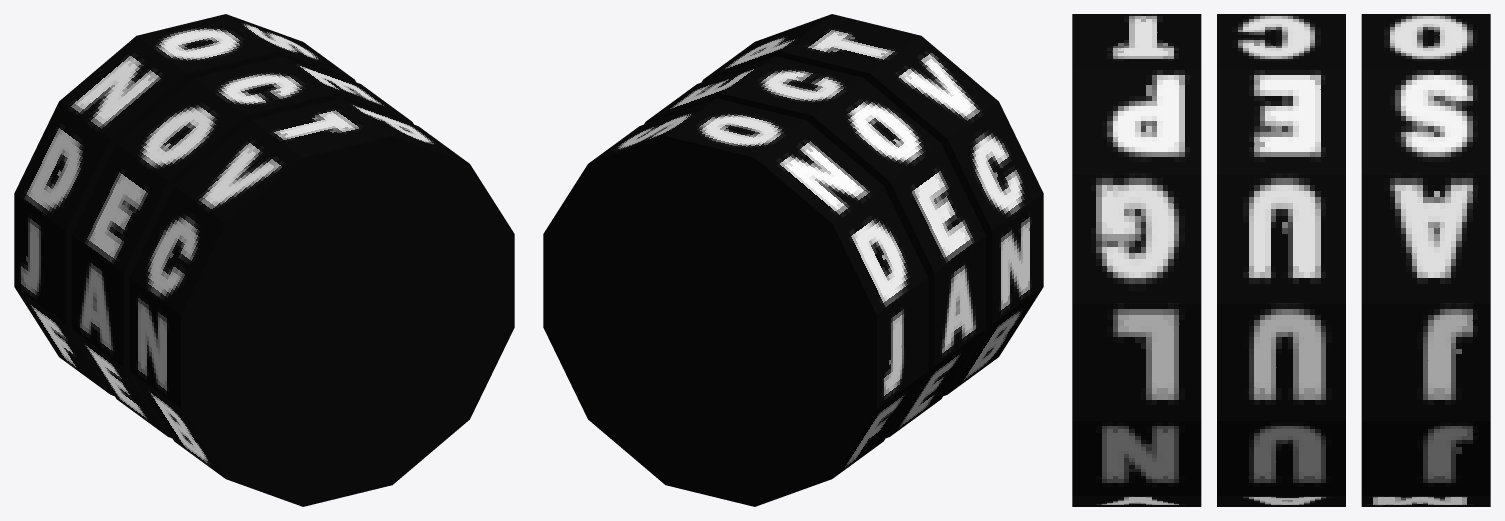
Rendered from Months.glb.
3 views of the same model, side by side, from view 1: azimuth 30°, elevation 25°; view 2: azimuth 150°, elevation 25°; view 3: azimuth 270°, elevation 25° (orthographic). The views are drawn at different scales.
Visible parts, largest first — view 1: Months; view 2: Months; view 3: Months.
Boxes of the visible parts, x1,y1,x2,y2 form: Months: (14, 14, 514, 506); Months: (543, 14, 1043, 506); Months: (1072, 14, 1490, 506).
Size of the model in its own units: 0.4774 by 0.4774 by 0.413.
1 material, 1 textured.
